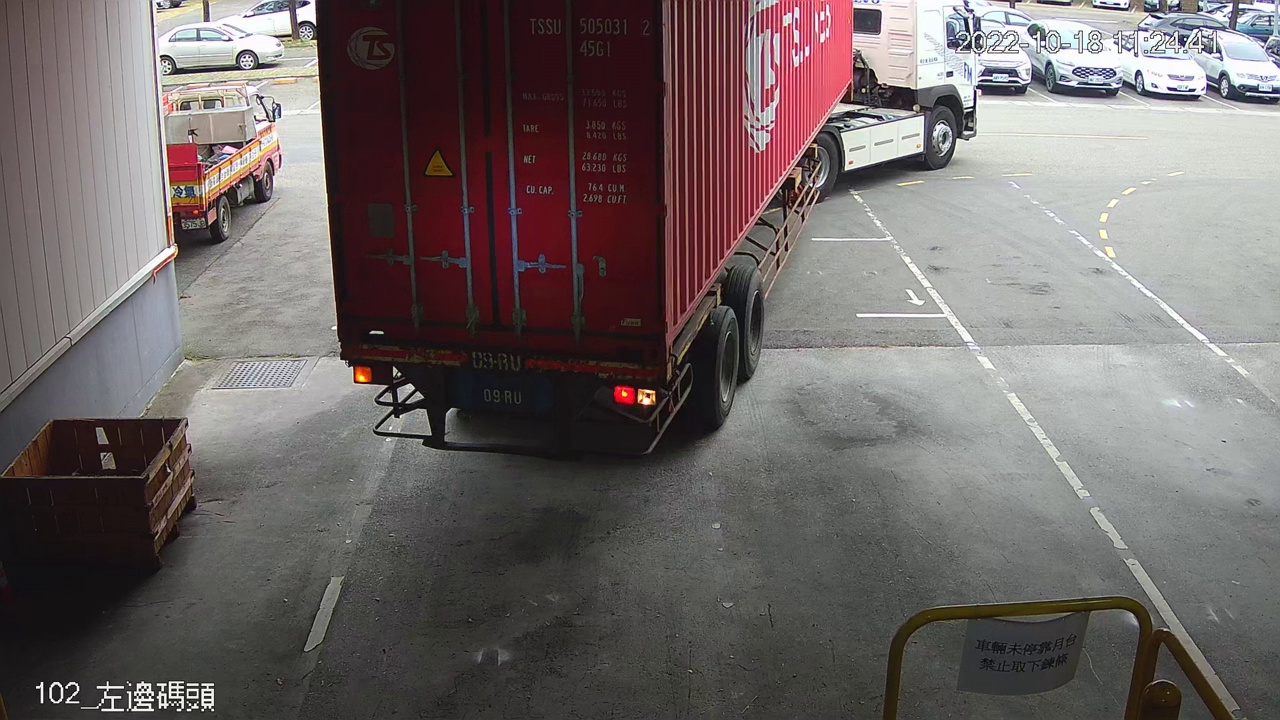container: (523, 9, 659, 65)
